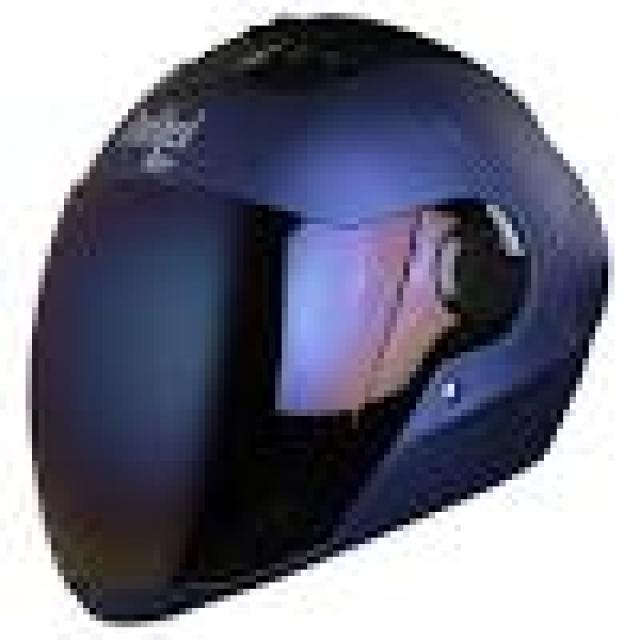Helmet: (34, 20, 606, 618)
